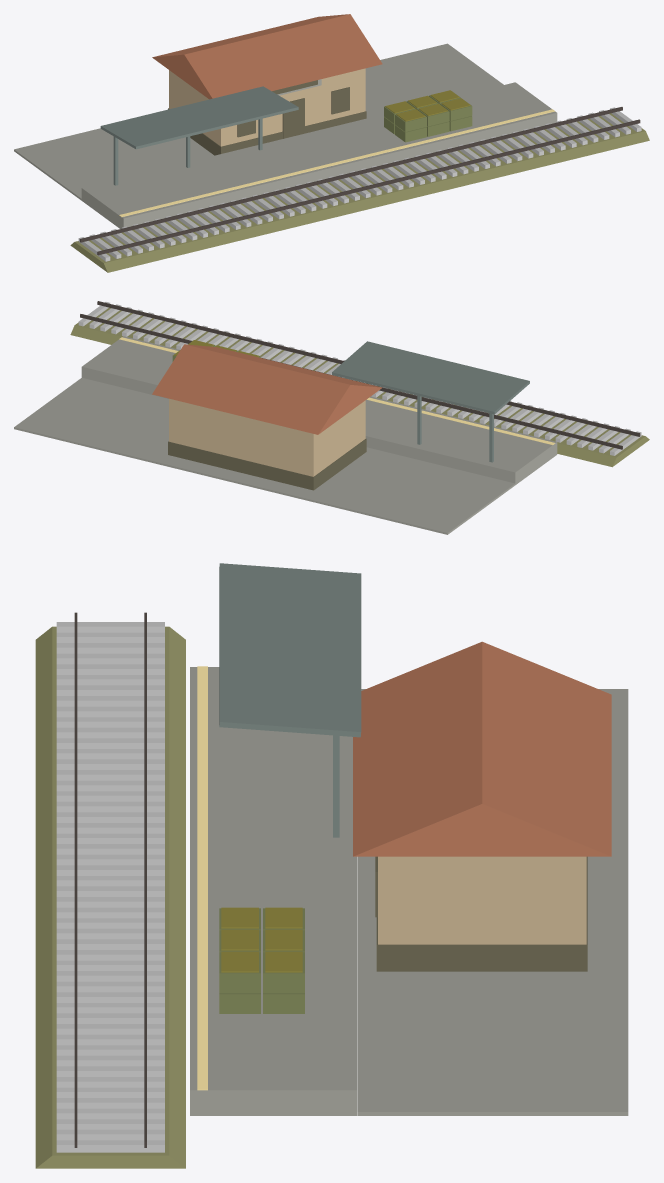
Rendered from SM_EstacionH1_v0_Apeadero_LOD0.fbx.
3 renders of one model, top to bottom at view 1: azimuth 30°, elevation 25°; view 2: azimuth 150°, elevation 25°; view 3: azimuth 270°, elevation 25°, orthographic. The views are drawn at different scales.
Visible parts, largest first — view 1: SM_estacion_h1_v0_LOD0; view 2: SM_estacion_h1_v0_LOD0; view 3: SM_estacion_h1_v0_LOD0.
Boxes of the visible parts, x1,y1,x2,y2 form: SM_estacion_h1_v0_LOD0: (14,14,649,272); SM_estacion_h1_v0_LOD0: (14,301,649,534); SM_estacion_h1_v0_LOD0: (35,563,628,1168).
Size of the model in its own units: 30 by 4.8 by 14.2.
